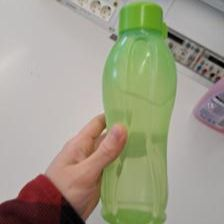bottle: (90, 2, 180, 223)
